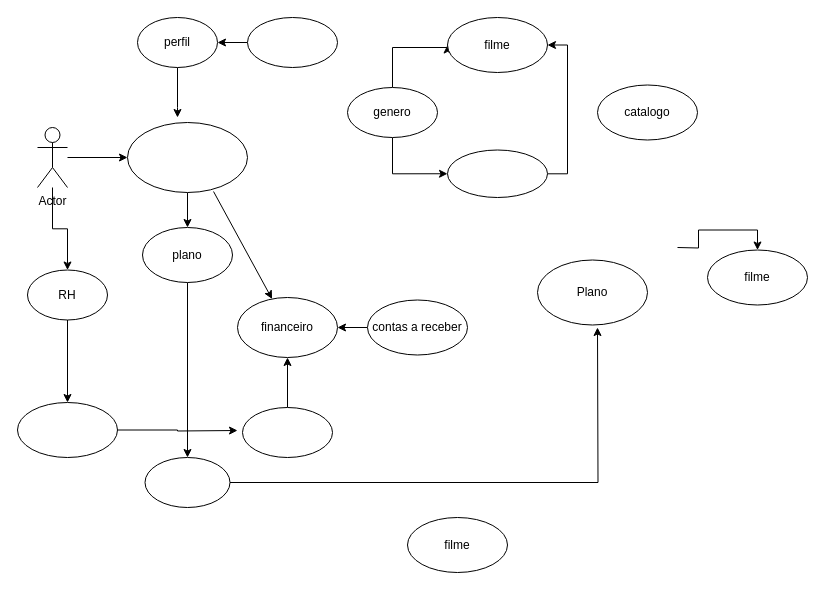
The diagram is 825 pixels wide and 590 high, and some of its shapes have lost their labels. The centre of each missing label's shape, as x and y in pixels:
ACL: the point at 292,42
contas a pagar: the point at 287,432
marketing: the point at 67,430
serie: the point at 497,173
suporte: the point at 187,482
USUARIO: the point at 187,157
